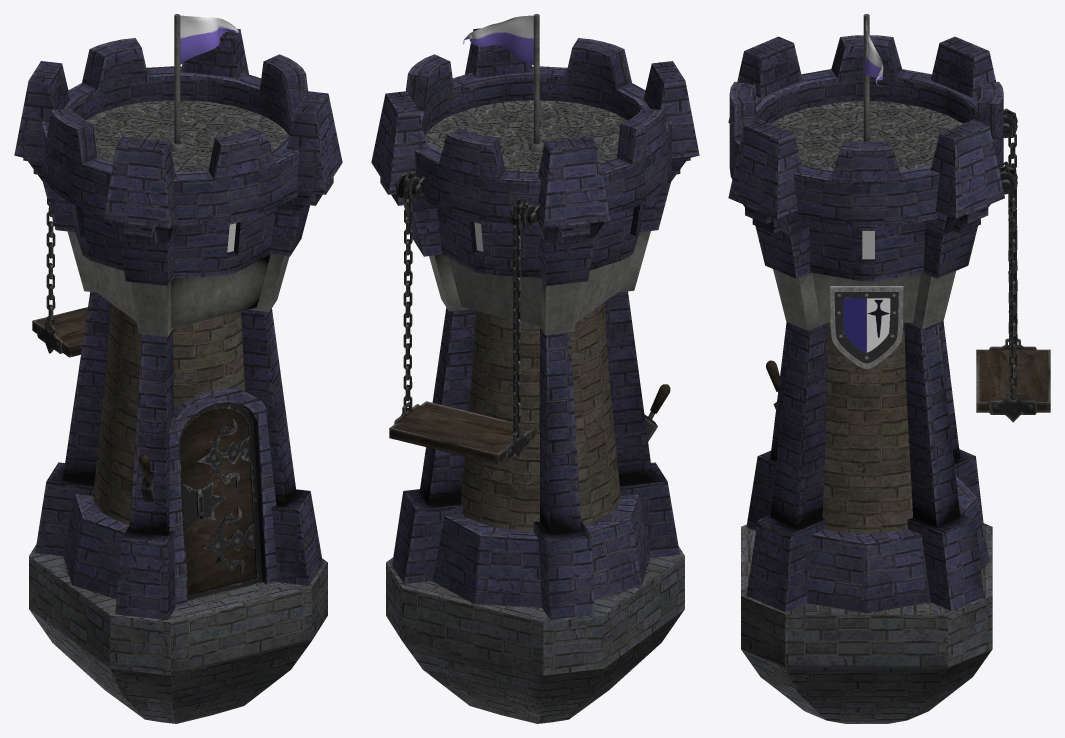
The model's file is tower.fbx.
3 renders of one model, left to right at view 1: azimuth 30°, elevation 25°; view 2: azimuth 150°, elevation 25°; view 3: azimuth 270°, elevation 25°, orthographic.
Parts seen in each view (by area): view 1: 立方体, 立方体.002, 円柱.003, 立方体.005, 扉, 円柱.001, 円柱.004, 円柱.002, 立方体.001, 円柱, ドアエンブレム1, 立方体.004 (+6 smaller); view 2: 立方体.002, 立方体, 円柱.003, 円柱.001, 立方体.005, 円柱, 円柱.004, 円柱.002, 立方体.001, ブランコ板, 立方体.004, チェーン (+6 smaller); view 3: 立方体.002, 立方体, 立方体.005, 円柱.003, 円柱.001, 円柱, 円柱.004, 円柱.002, エンブレム, ブランコ板, 立方体.004, チェーン (+6 smaller).
Part boxes in pixels (bbox=[...]): 立方体: bbox=[29, 545, 327, 723]; 立方体.002: bbox=[35, 292, 322, 620]; 円柱.003: bbox=[42, 38, 307, 225]; 立方体.005: bbox=[14, 28, 342, 286]; 扉: bbox=[169, 387, 278, 606]; 円柱.001: bbox=[93, 303, 244, 524]; 円柱.004: bbox=[86, 100, 288, 171]; 円柱.002: bbox=[71, 203, 275, 278]; 立方体.001: bbox=[83, 254, 270, 328]; 円柱: bbox=[63, 494, 129, 599]; ドアエンブレム1: bbox=[182, 418, 255, 574]; 立方体.004: bbox=[67, 231, 289, 336]; 立方体.002: bbox=[392, 291, 679, 619]; 立方体: bbox=[386, 546, 684, 723]; 円柱.003: bbox=[406, 38, 671, 225]; 円柱.001: bbox=[460, 302, 620, 531]; 立方体.005: bbox=[371, 28, 699, 286]; 円柱: bbox=[432, 494, 650, 607]; 円柱.004: bbox=[425, 100, 627, 171]; 円柱.002: bbox=[437, 203, 644, 277]; 立方体.001: bbox=[449, 256, 630, 326]; ブランコ板: bbox=[389, 401, 535, 464]; 立方体.004: bbox=[429, 231, 650, 334]; チェーン: bbox=[403, 171, 528, 437]; 立方体.002: bbox=[746, 320, 983, 611]; 立方体: bbox=[741, 523, 992, 723]; 立方体.005: bbox=[728, 36, 1004, 278]; 円柱.003: bbox=[729, 35, 1003, 226]; 円柱.001: bbox=[822, 322, 912, 533]; 円柱: bbox=[807, 476, 989, 613]; 円柱.004: bbox=[771, 101, 962, 171]; 円柱.002: bbox=[809, 221, 925, 281]; エンブレム: bbox=[830, 286, 903, 369]; ブランコ板: bbox=[976, 349, 1050, 412]; 立方体.004: bbox=[773, 269, 955, 330]; チェーン: bbox=[998, 108, 1017, 399].
Size of the model in its own units: 654 by 1810 by 761.
Materials: 3 (2 with a texture image).
